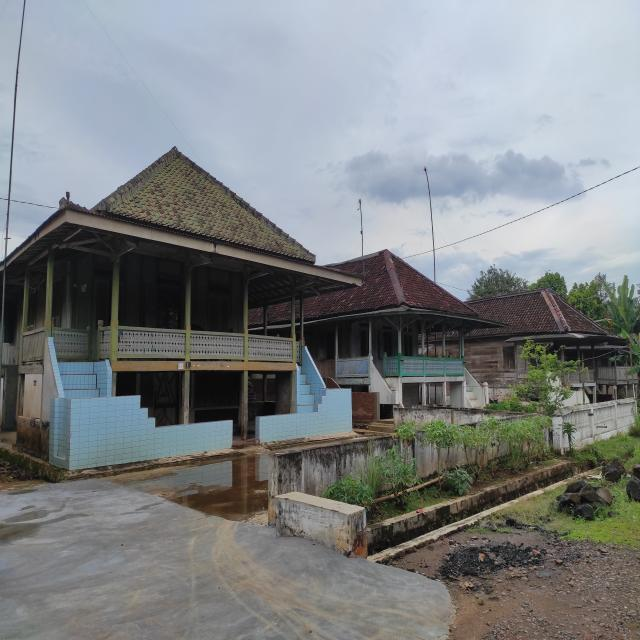Atap: (0, 146, 364, 310)
Kolom: (435, 332, 436, 358)
Ornamen: (425, 357, 445, 376), (446, 358, 464, 376), (385, 357, 398, 376), (296, 342, 300, 362)
Tangga: (58, 362, 99, 398), (299, 374, 315, 413), (466, 384, 478, 407)
Tembok Bangunan: (419, 337, 563, 389)
